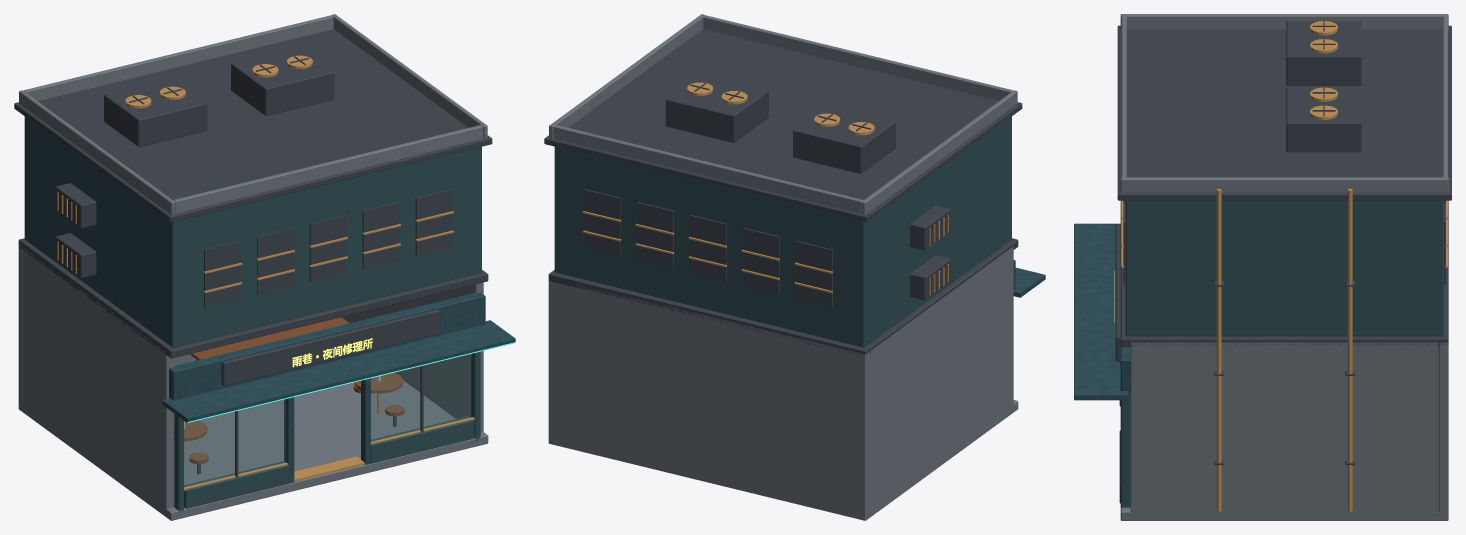
Rendered from workshop.glb.
3 renders of one model, left to right at view 1: azimuth 30°, elevation 25°; view 2: azimuth 150°, elevation 25°; view 3: azimuth 270°, elevation 25°, orthographic. The views are drawn at different scales.
Parts seen in each view (by area): view 1: 13_RainWorkshop_GameMesh; view 2: 13_RainWorkshop_GameMesh; view 3: 13_RainWorkshop_GameMesh.
Part boxes in pixels (x1=…): 13_RainWorkshop_GameMesh: x1=14, y1=14, x2=515, y2=520; 13_RainWorkshop_GameMesh: x1=544, y1=14, x2=1045, y2=520; 13_RainWorkshop_GameMesh: x1=1074, y1=14, x2=1451, y2=520.
Size of the model in its own units: 12.67 by 12.18 by 11.53.
11 materials, 1 textured.
